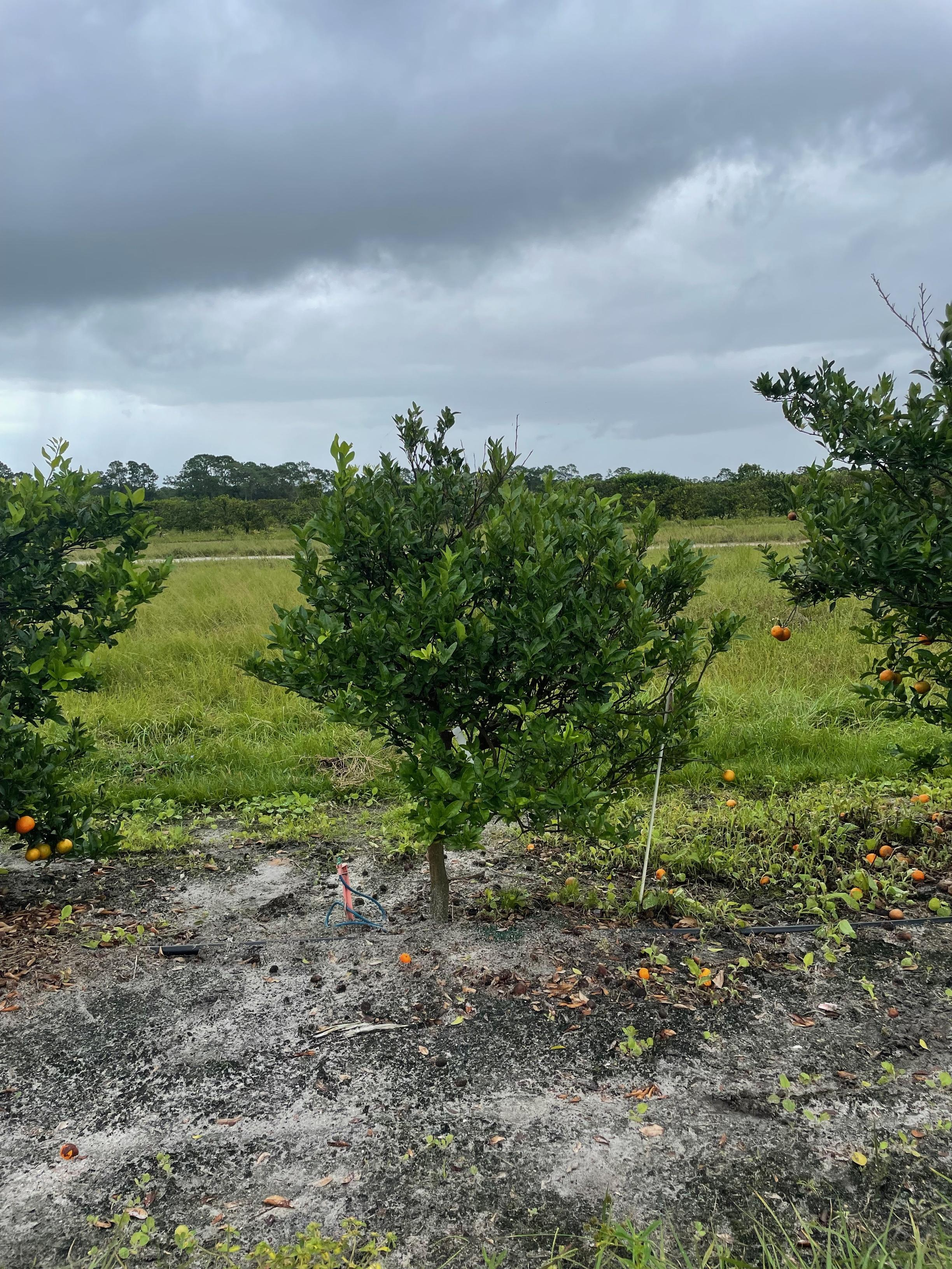fruit_on_ground: (13, 812, 37, 835), (54, 836, 74, 856), (912, 678, 932, 696), (612, 574, 631, 591), (916, 630, 935, 647), (35, 841, 52, 860), (24, 845, 41, 863), (720, 767, 738, 784), (879, 669, 897, 685), (775, 626, 792, 642), (770, 624, 785, 639), (786, 511, 798, 522)
fruit_on_tree: (58, 1140, 80, 1162), (562, 872, 581, 890), (396, 949, 413, 965), (847, 884, 864, 900), (698, 964, 714, 980), (653, 865, 669, 880), (636, 965, 651, 981), (886, 1005, 901, 1019), (877, 842, 892, 856), (910, 867, 925, 881), (889, 907, 905, 920), (917, 792, 931, 805), (791, 840, 804, 853), (864, 851, 877, 864), (758, 874, 771, 885), (725, 797, 738, 808), (909, 795, 921, 804)
